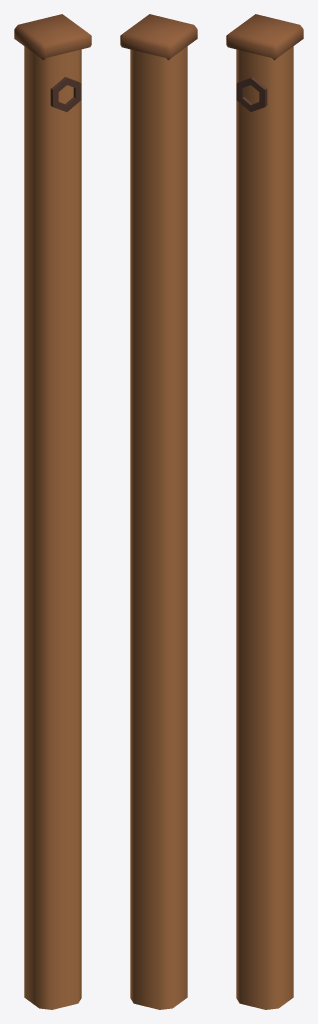
The model's file is string_post.glb.
3 views of the same model, side by side, from view 1: azimuth 30°, elevation 25°; view 2: azimuth 150°, elevation 25°; view 3: azimuth 330°, elevation 25° (orthographic).
Parts seen in each view (by area): view 1: string_post; view 2: string_post; view 3: string_post.
Boxes of the visible parts, x1,y1,x2,y2 form: string_post: (14,14,91,1009); string_post: (120,14,197,1009); string_post: (226,14,303,1009).
Bounding box in the file's own units: 0.16 × 2.85 × 0.16.
Materials: 1 (1 with a texture image).
